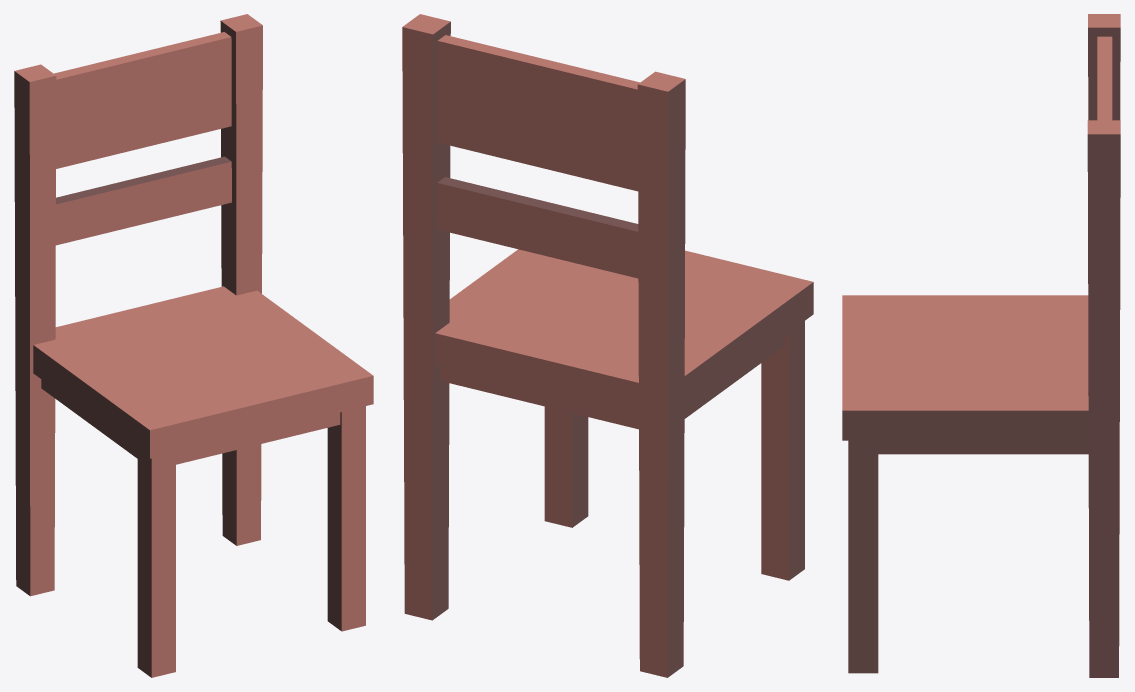
Rendered from Chair Simple.fbx.
The picture shows the model from 3 angles, left to right: view 1: azimuth 30°, elevation 25°; view 2: azimuth 150°, elevation 25°; view 3: azimuth 270°, elevation 25°; orthographic projection. The views are drawn at different scales.
Visible parts, largest first — view 1: Chair Simple; view 2: Chair Simple; view 3: Chair Simple.
Boxes of the visible parts, bbox=[...] form: Chair Simple: bbox=[14, 14, 373, 677]; Chair Simple: bbox=[402, 14, 813, 677]; Chair Simple: bbox=[842, 14, 1120, 677].
Bounding box in the file's own units: 99.54 × 210 × 97.35.
